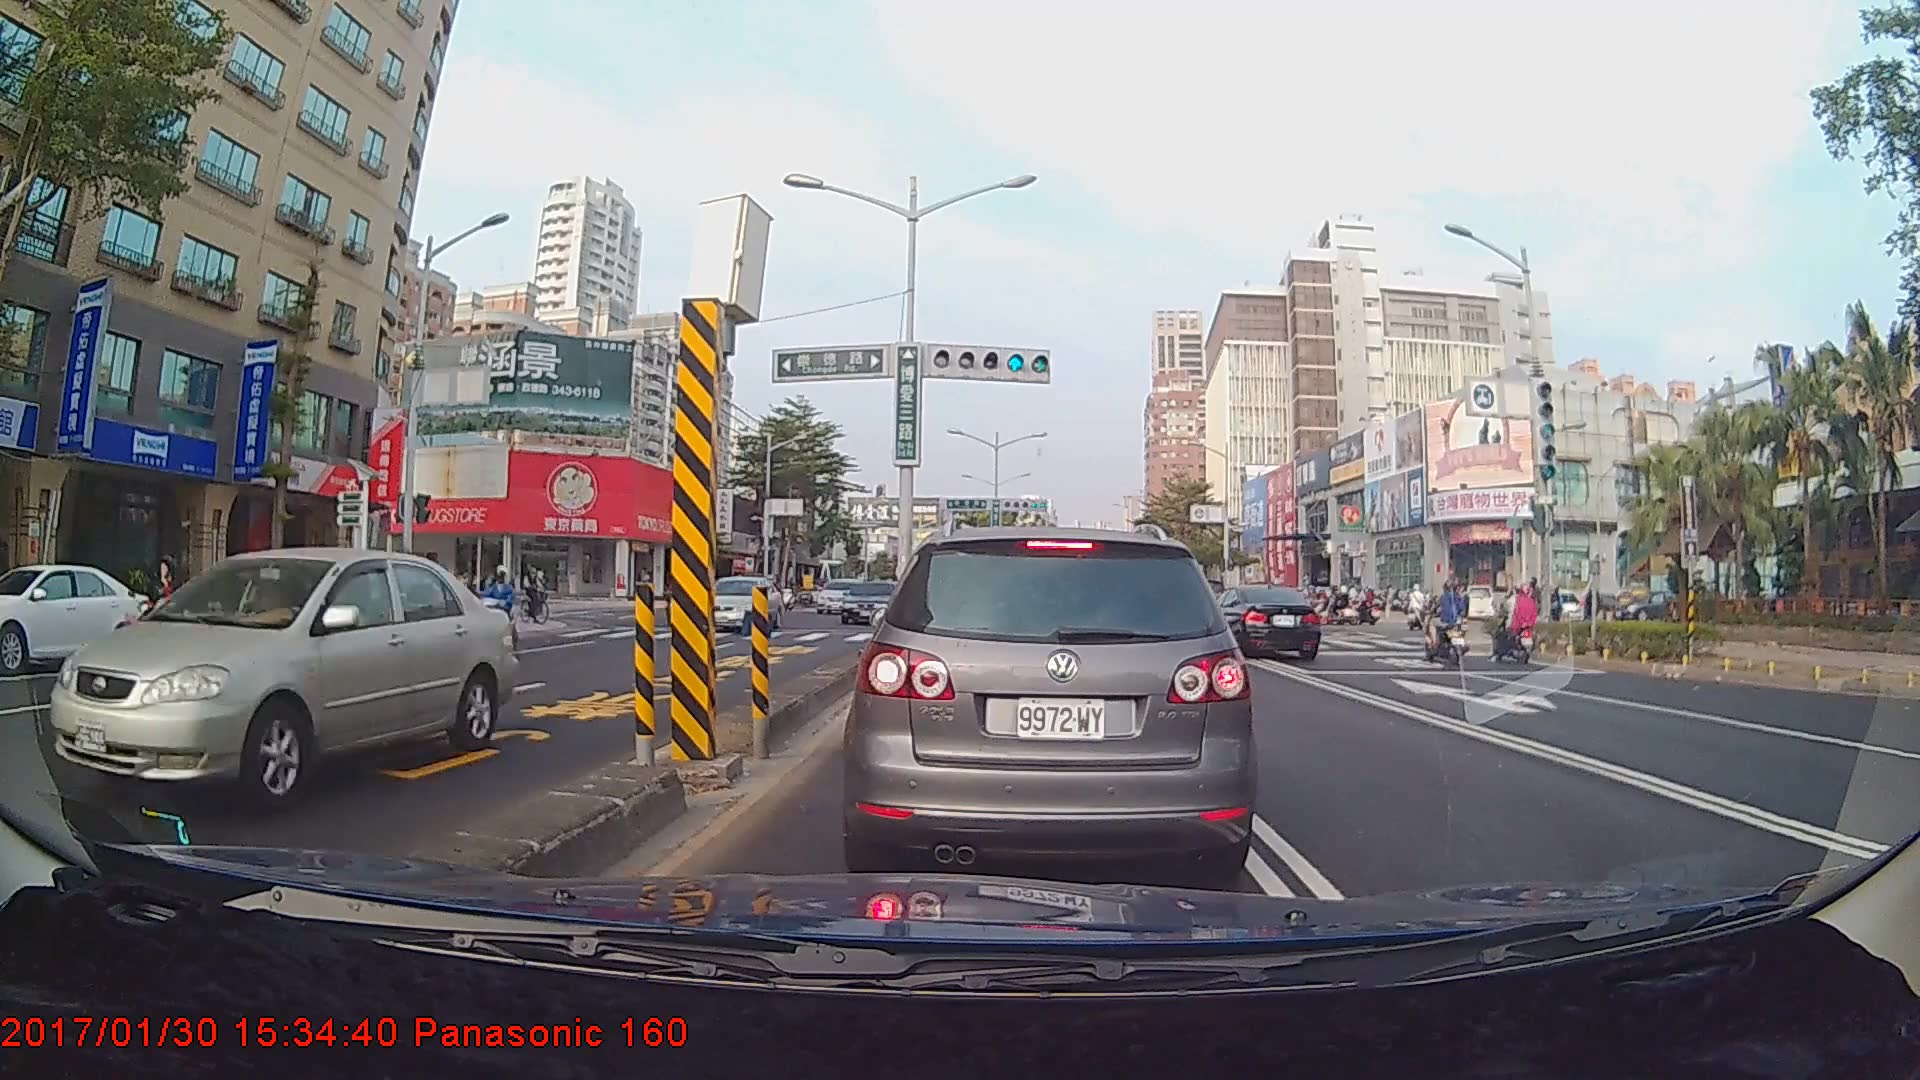rider: (1485, 582, 1548, 668), (1417, 580, 1476, 665), (518, 559, 561, 629), (1436, 582, 1473, 646)
vehicle: (853, 520, 1251, 878), (44, 545, 516, 814), (0, 561, 157, 671), (1194, 582, 1322, 662), (692, 574, 785, 632), (838, 577, 904, 625), (814, 577, 869, 614)
